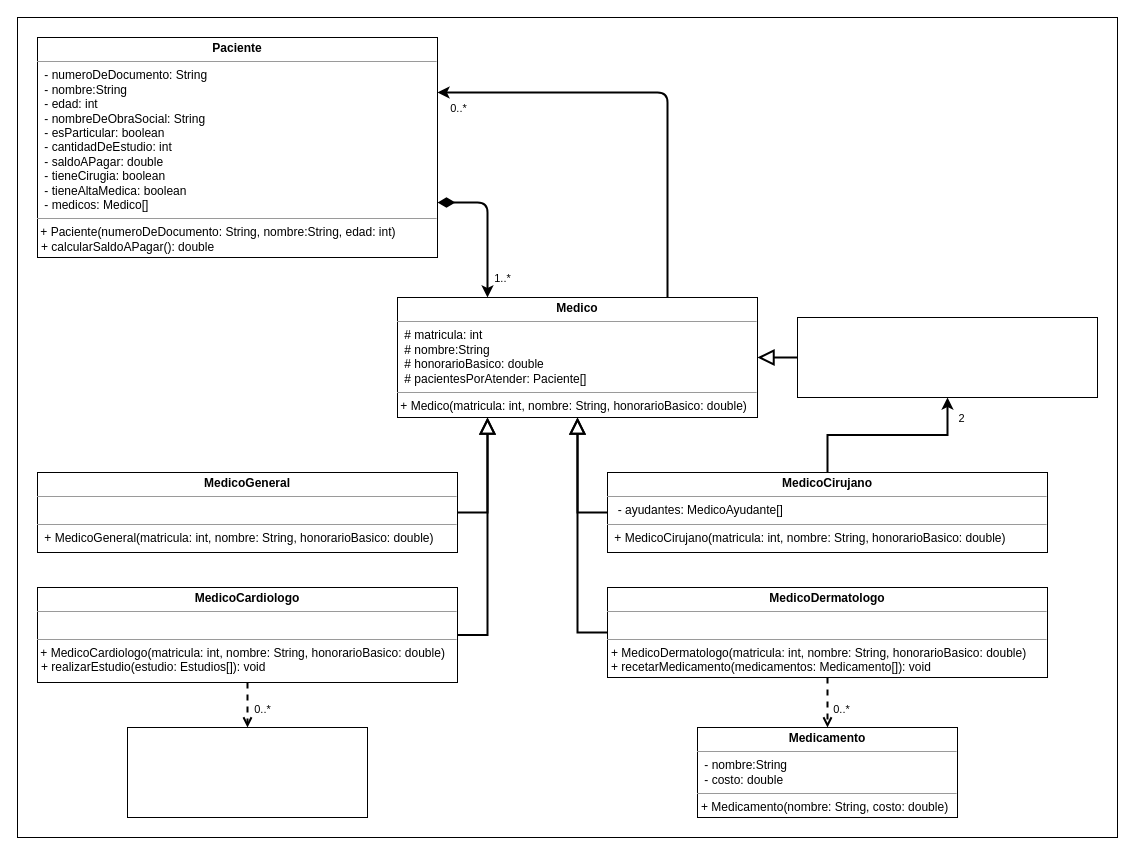
This 1135x855 diagram has some shape labels left out. Here are the shapes that lost their labels. From the top down, the box of each, then its label:
(796, 316, 1098, 398): MedicoAyudante + MedicoAyudante(nombre: String, honorario: double)
(126, 726, 368, 818): Estudio - nombre:String - costo: double + Estudio(nombre: String, costo: double)
